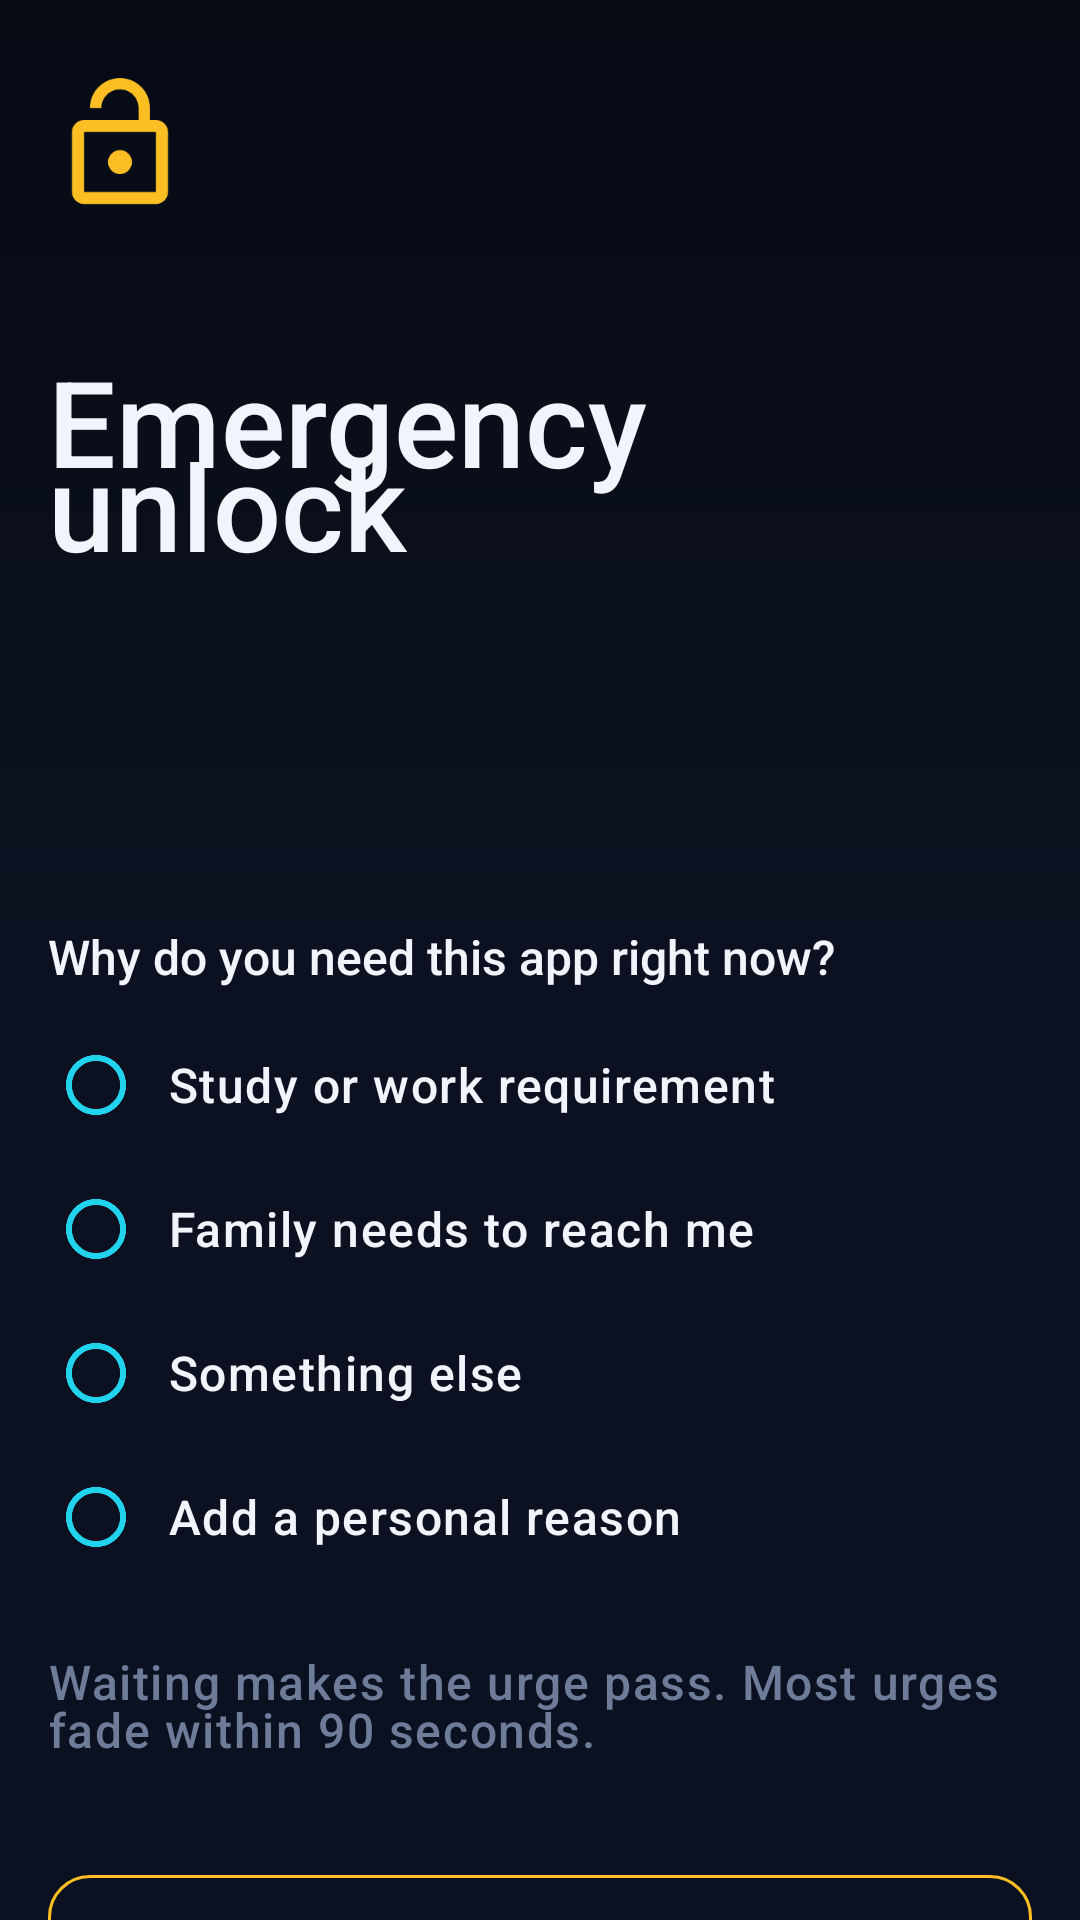

Screen size 1080w x 1920h. Icon name, then its center in pixels as (x=x, y=y):
lock open: (x=120, y=141)
